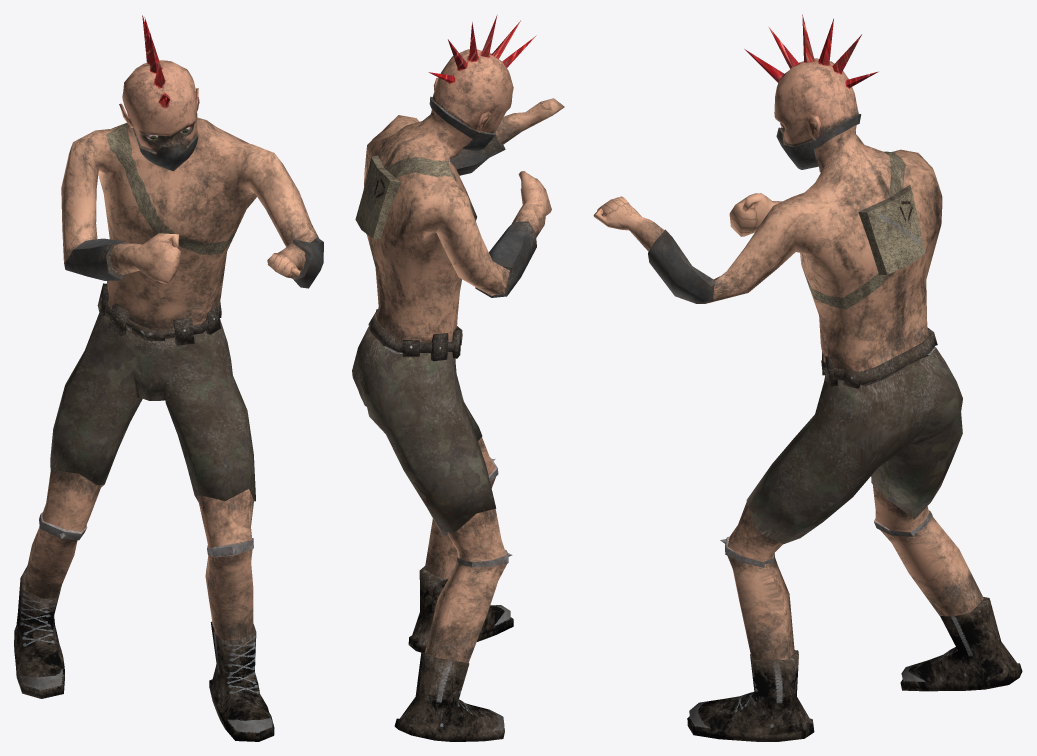
The model's file is Anim_disparar_ametralladora_npc2.0025.obj.
3 renders of one model, left to right at view 1: azimuth 30°, elevation 25°; view 2: azimuth 150°, elevation 25°; view 3: azimuth 270°, elevation 25°, orthographic. The views are drawn at different scales.
Parts seen in each view (by area): view 1: polySurface1; view 2: polySurface1; view 3: polySurface1.
Part boxes in pixels (<box>): polySurface1: <box>14,15,323,741</box>; polySurface1: <box>352,15,564,741</box>; polySurface1: <box>593,14,1022,741</box>.
Bounding box in the file's own units: 2.91 × 9.62 × 5.35.
2 materials, 2 textured.
